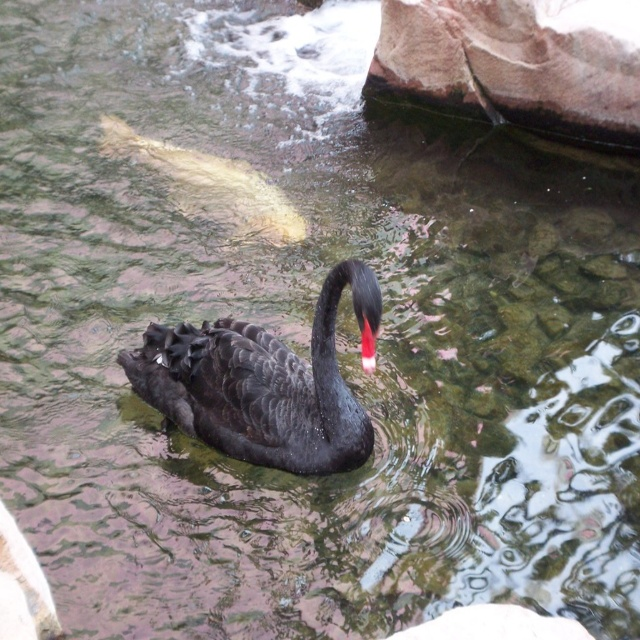Swan: (115, 257, 382, 475)
